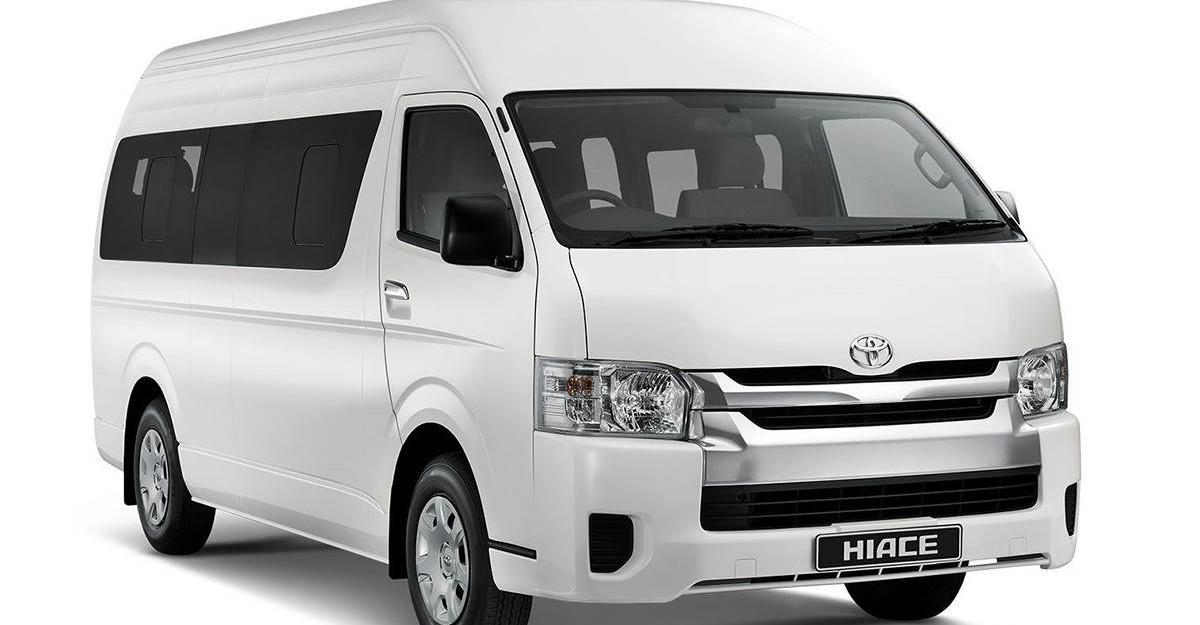van: (90, 2, 1082, 625)
